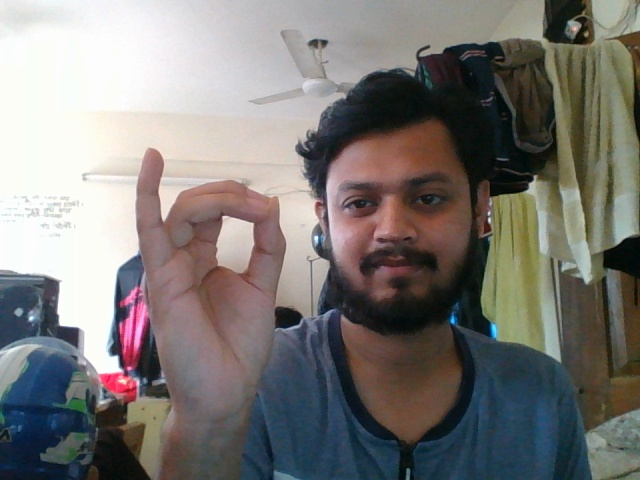ou: (122, 143, 295, 453)
